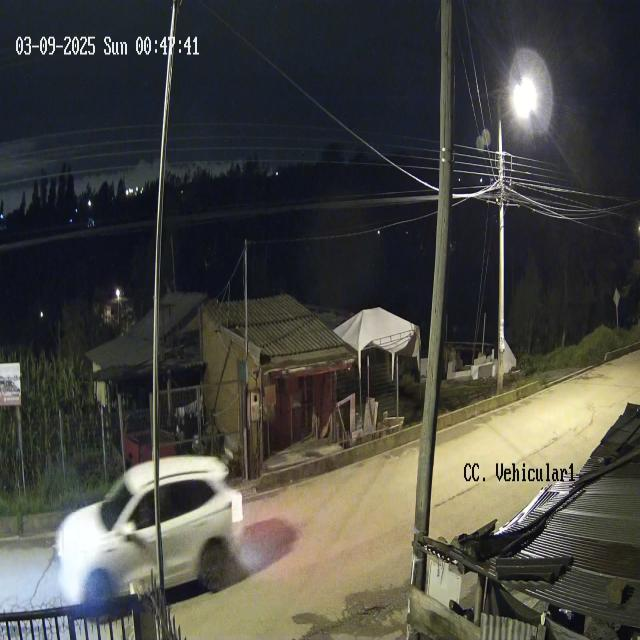SUV: (54, 452, 244, 603)
